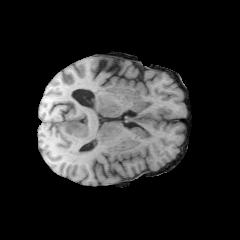glioma: (65, 119, 97, 161)
